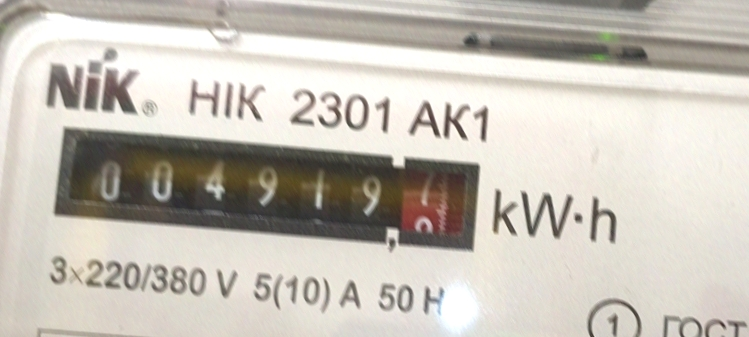0: (148, 157, 178, 205), (97, 158, 124, 204)
1: (310, 166, 329, 212)
4: (201, 157, 229, 202)
7: (412, 168, 439, 209)
9: (358, 172, 385, 221), (254, 165, 281, 210)
screen: (42, 113, 499, 271)
